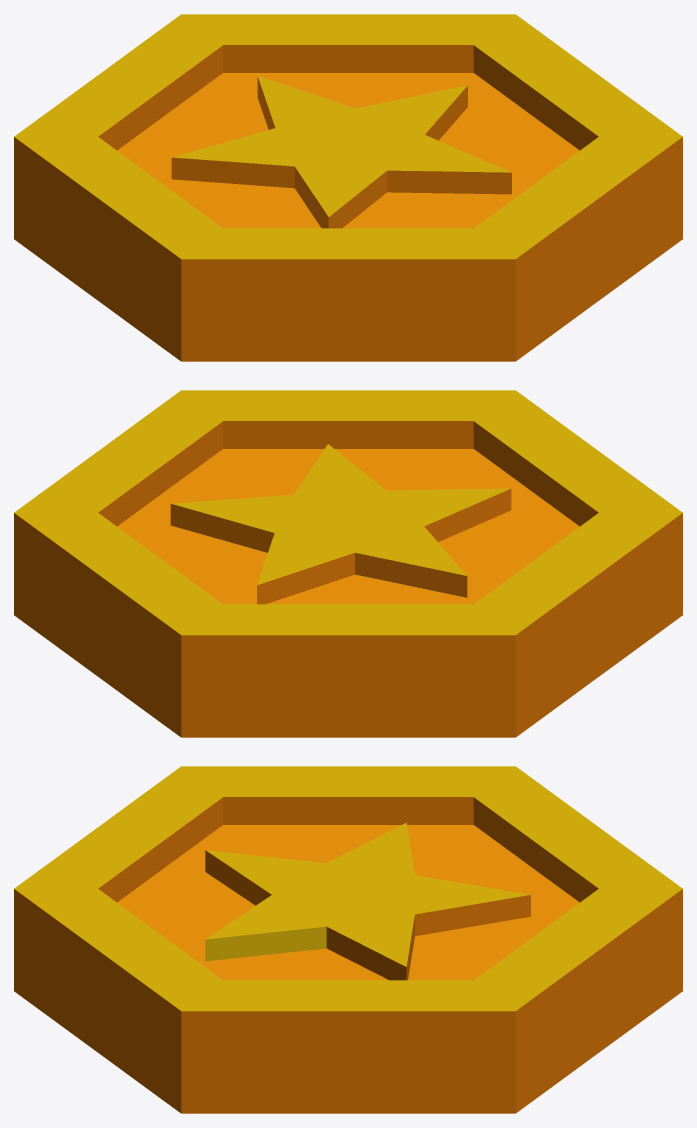
File: coin.glb
3 renders of one model, top to bottom at view 1: azimuth 30°, elevation 25°; view 2: azimuth 150°, elevation 25°; view 3: azimuth 270°, elevation 25°, orthographic.
Visible parts, largest first — view 1: Plane; view 2: Plane; view 3: Plane.
Part boxes in pixels (x1=…): Plane: x1=14, y1=14, x2=682, y2=361; Plane: x1=14, y1=390, x2=682, y2=737; Plane: x1=14, y1=766, x2=682, y2=1113.
Bounding box in the file's own units: 1.73 × 0.3381 × 2.
